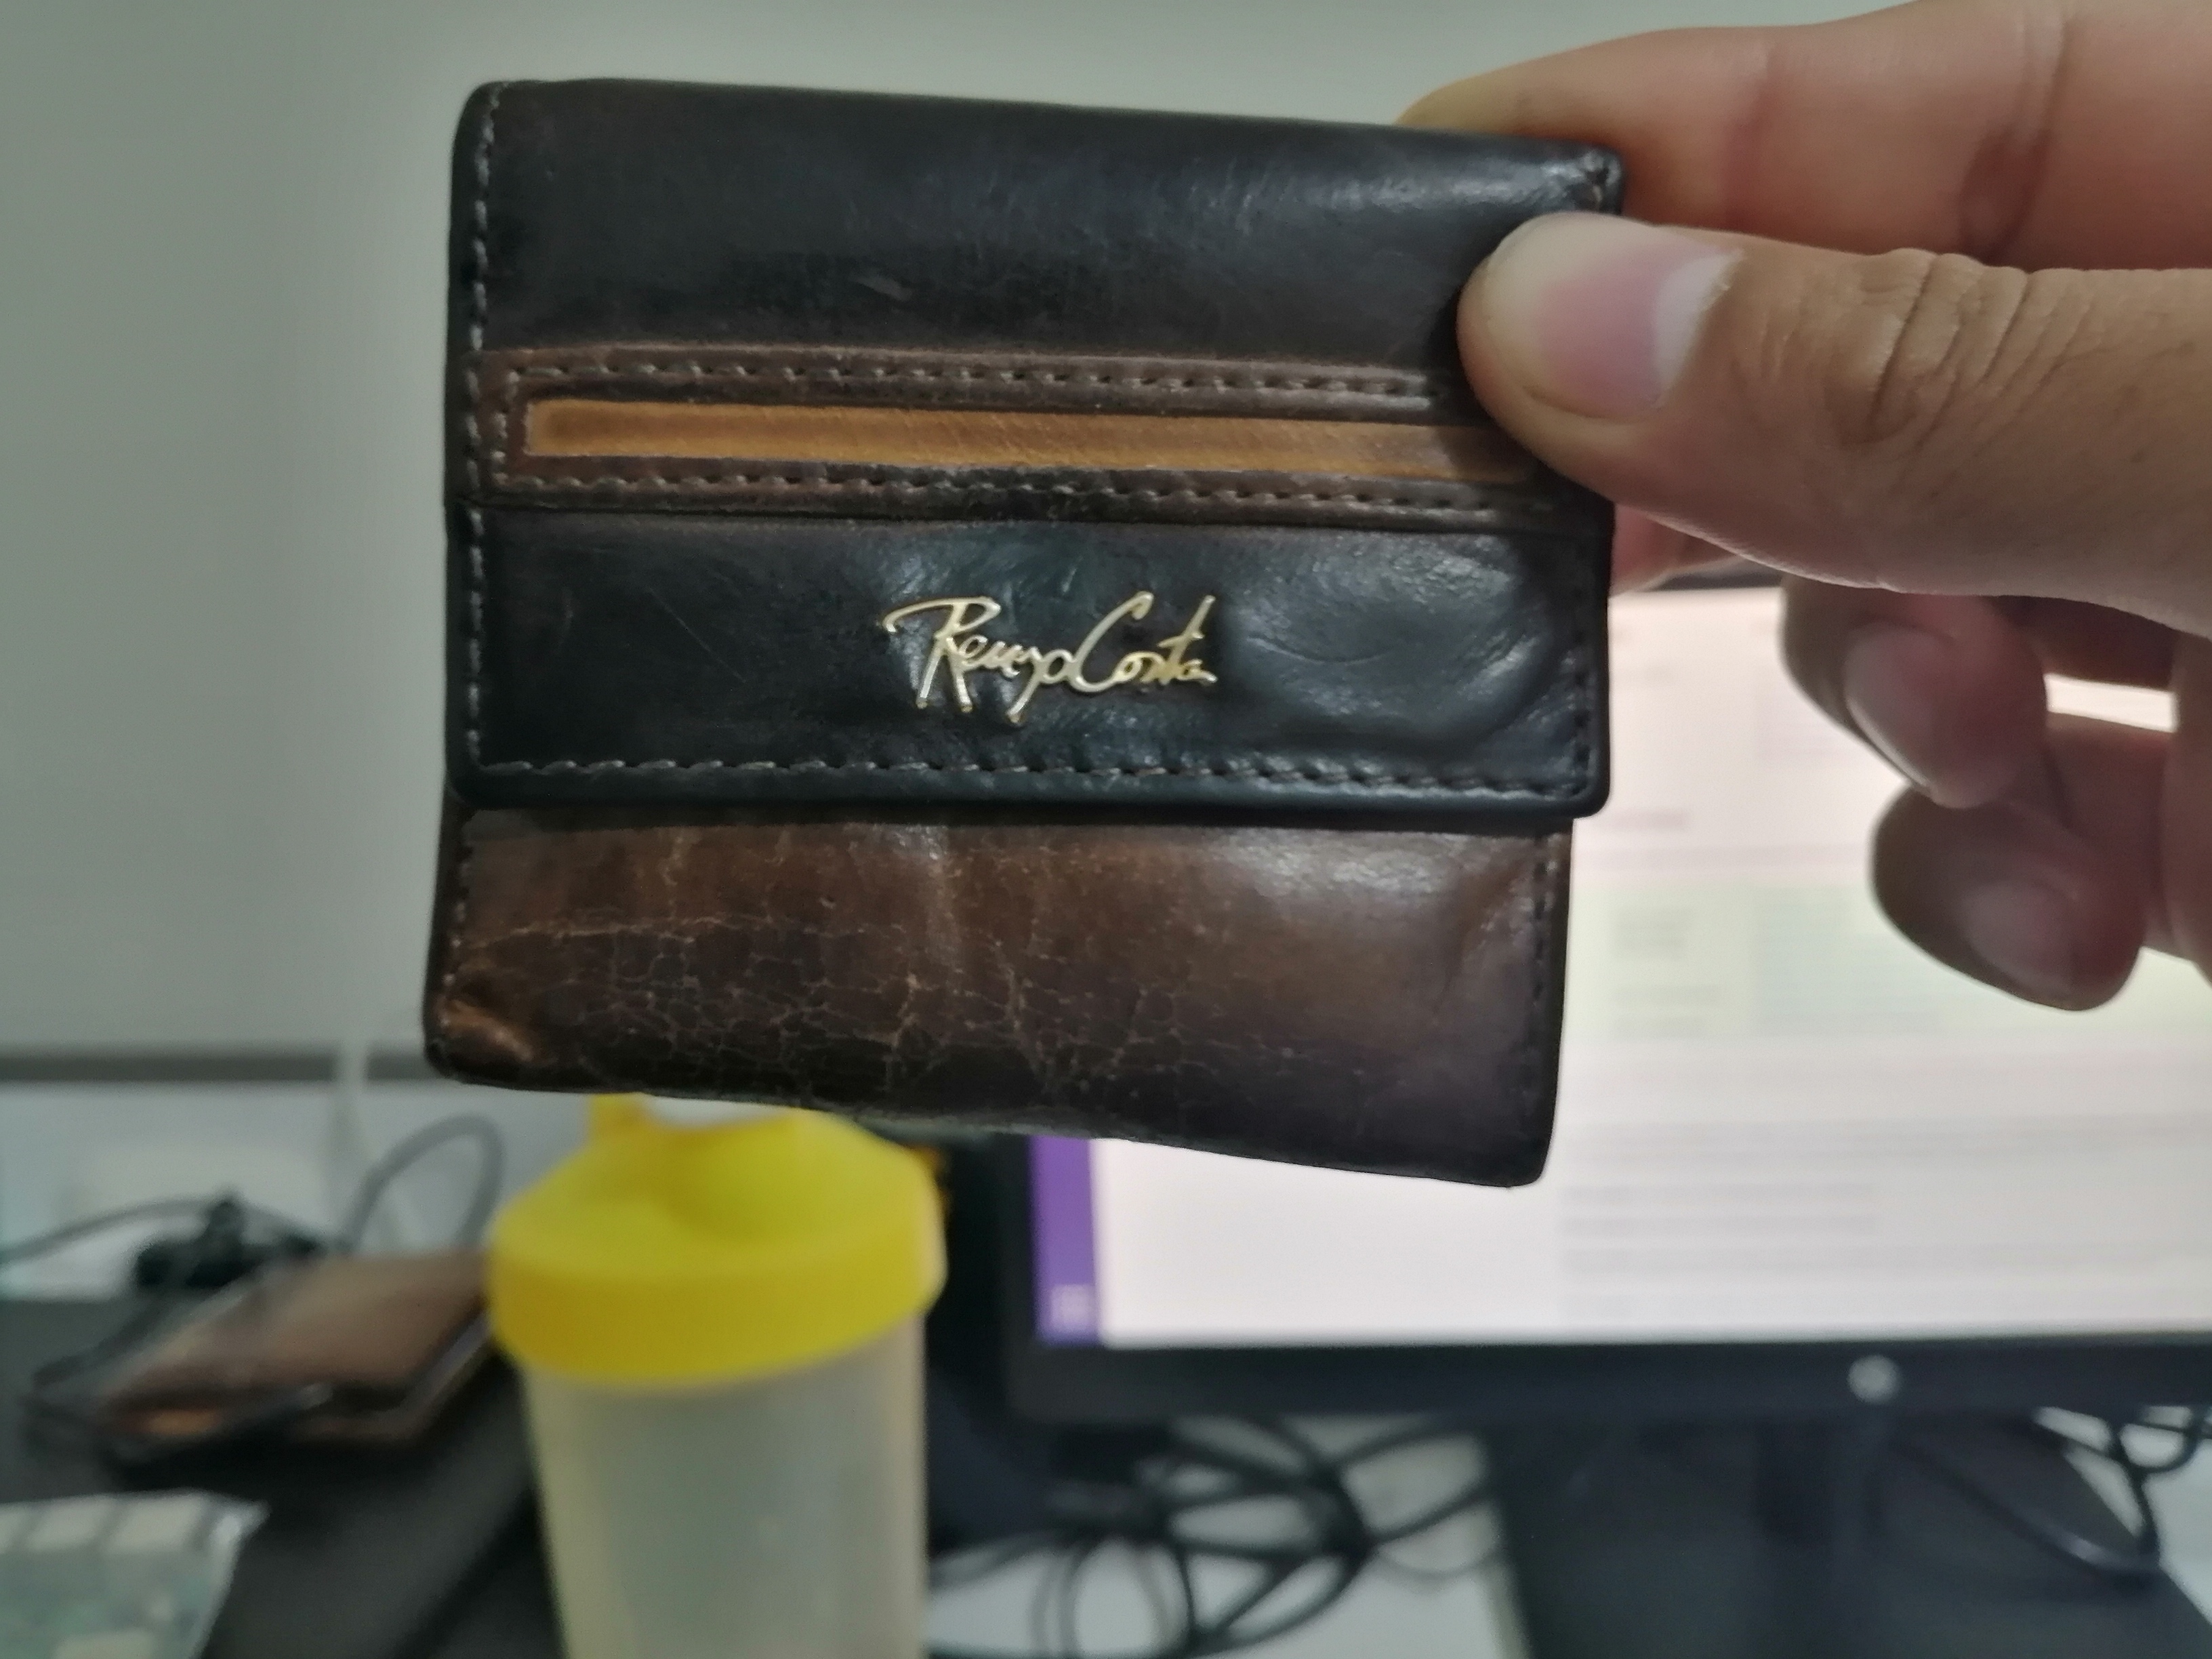monedero: (406, 42, 1653, 1216)
